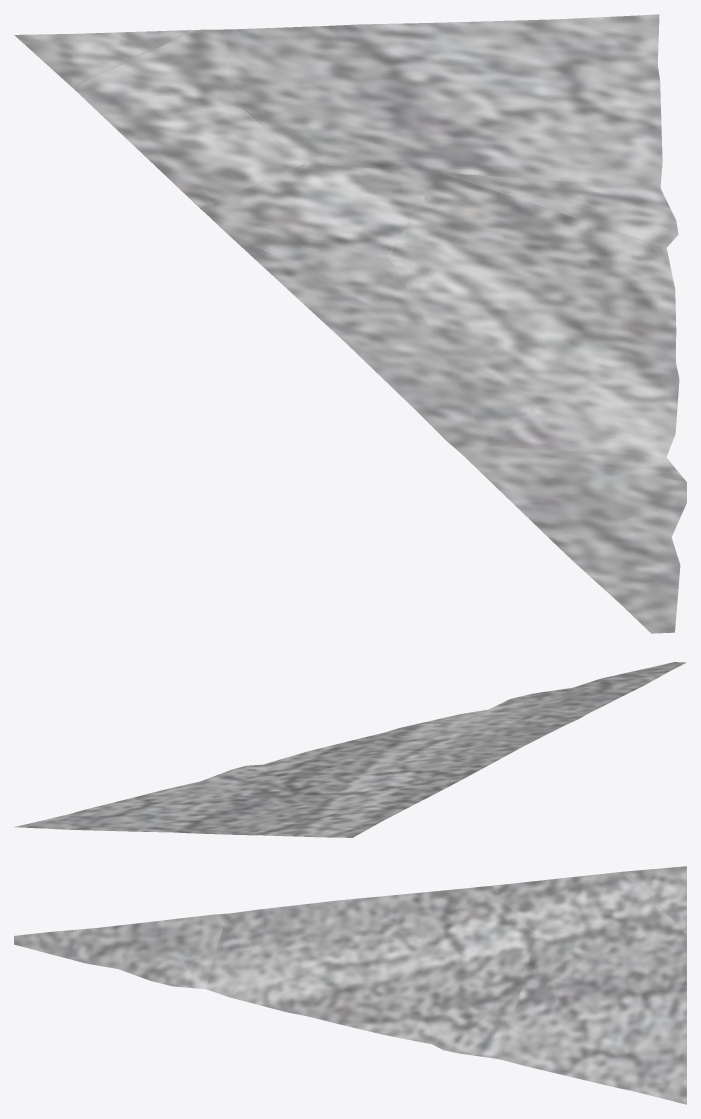
3 renders of one model, top to bottom at view 1: azimuth 30°, elevation 25°; view 2: azimuth 150°, elevation 25°; view 3: azimuth 270°, elevation 25°, orthographic. The views are drawn at different scales.
Size of the model in its own units: 0.9793 by 0.1986 by 1.67.
1 material, 1 textured.
